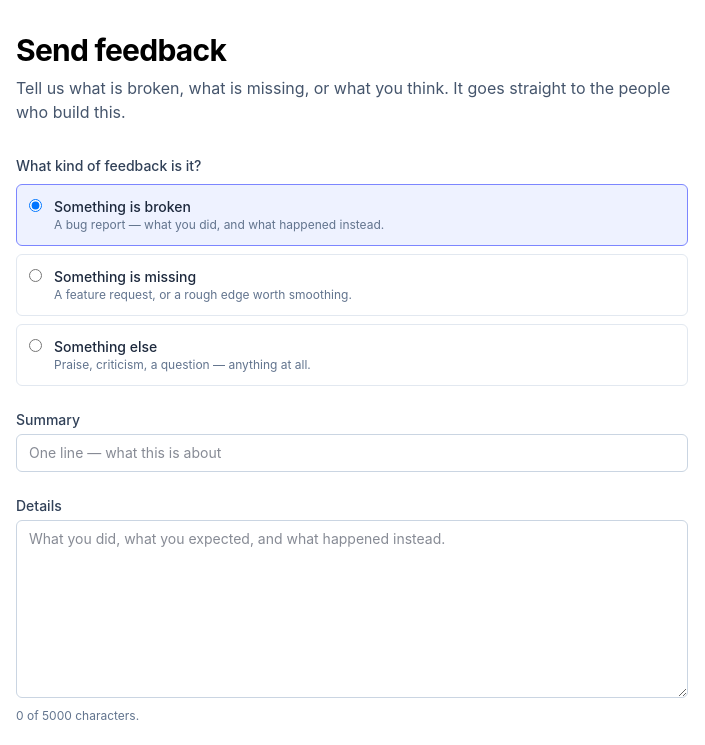
FeedbackPage › leaves the form usable after a failed send
Type "Slides stop advancing" into the field labelled "Summary" at (352, 453), box [16,434,688,472]
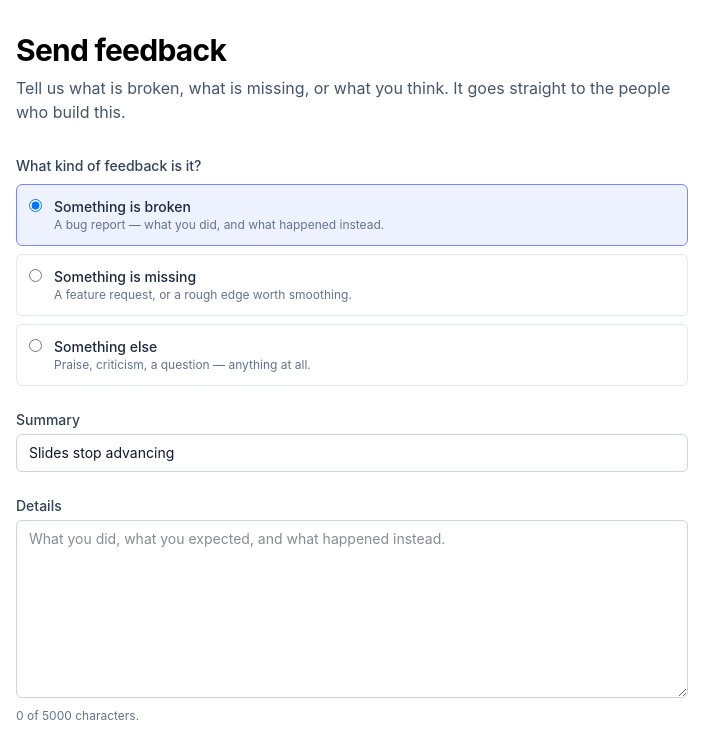
Type "It froze." into the text box labelled "Details" at (352, 609), box [16,520,688,698]
(page scrolled)
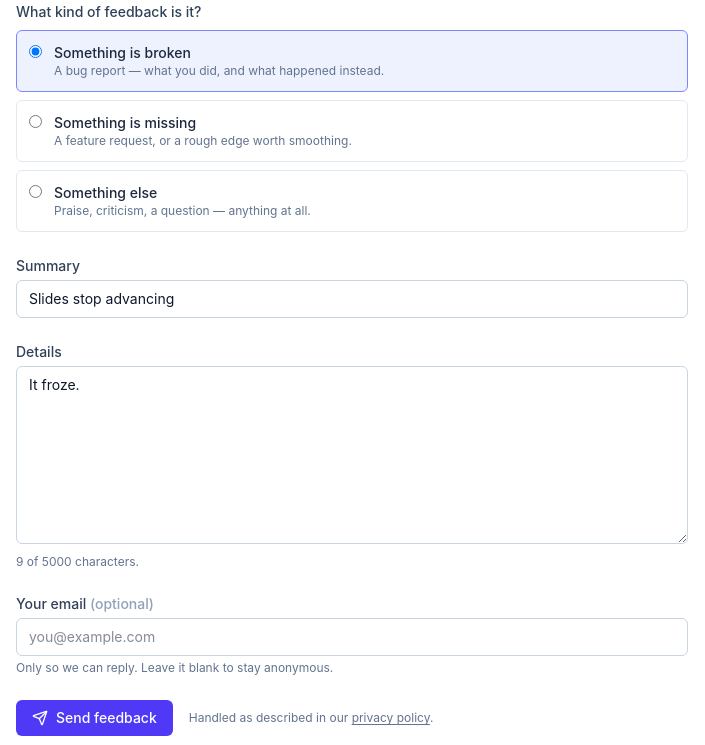
Click the button "Send feedback" at (94, 718), box [16,700,173,736]
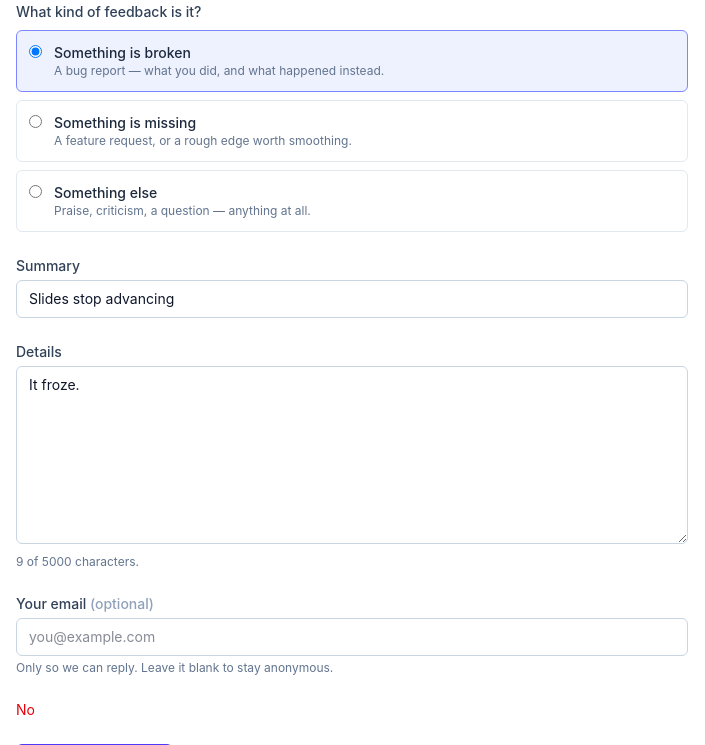
Expected: the message "No" is shown, [16,701,35,718]
